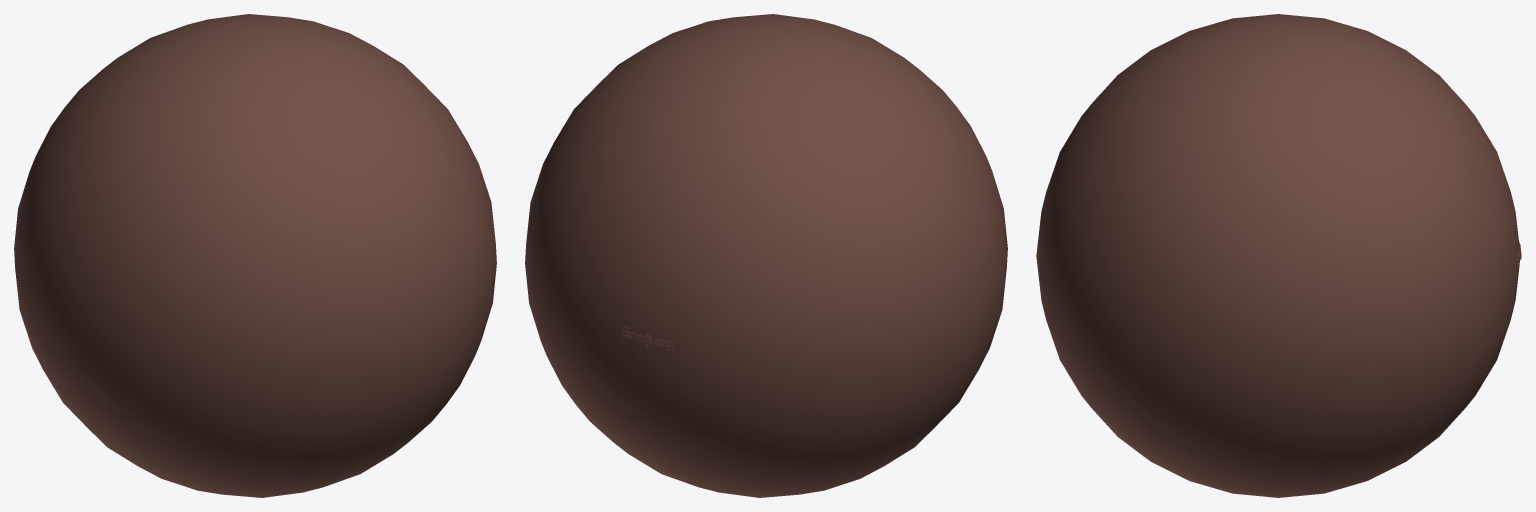
Rendered from brown_circle.glb.
3 renders of one model, left to right at view 1: azimuth 30°, elevation 25°; view 2: azimuth 150°, elevation 25°; view 3: azimuth 270°, elevation 25°, orthographic.
Parts seen in each view (by area): view 1: Cube.6668; view 2: Cube.6668; view 3: Cube.6668.
Part boxes in pixels (x1,y1,x2,y2): Cube.6668: [14, 14, 496, 497]; Cube.6668: [525, 14, 1007, 497]; Cube.6668: [1036, 14, 1521, 497].
Bounding box in the file's own units: 2.23 × 2.23 × 2.23.
1 material, 1 textured.
